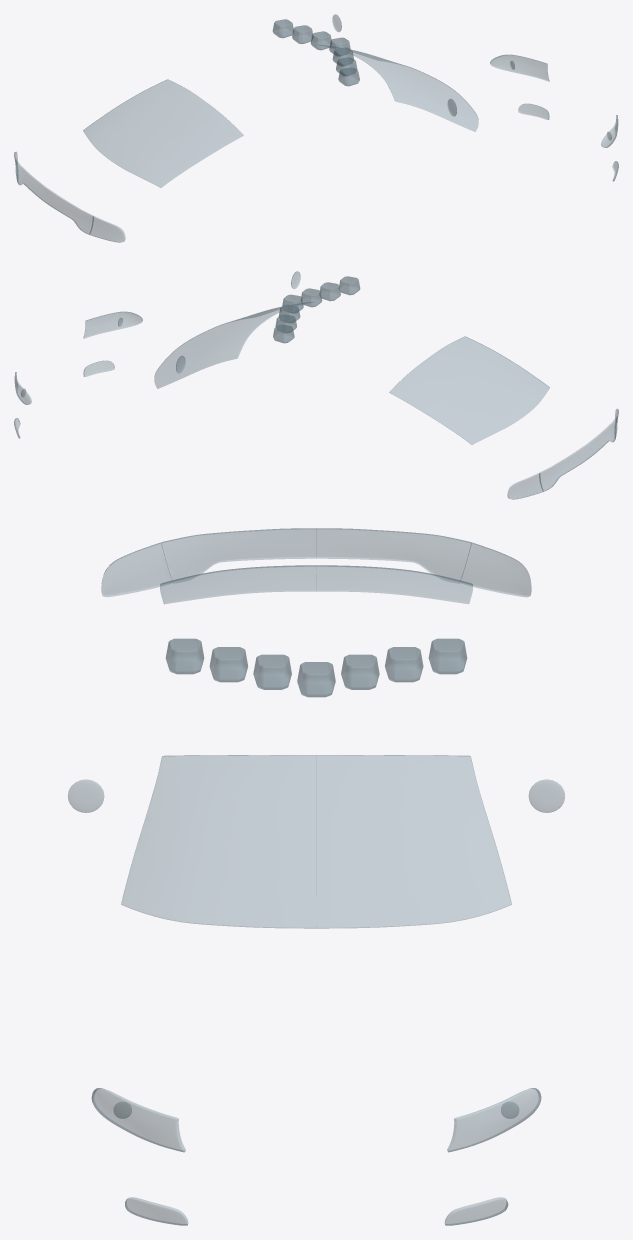
The picture shows the model from 3 angles, top to bottom: view 1: azimuth 30°, elevation 25°; view 2: azimuth 150°, elevation 25°; view 3: azimuth 270°, elevation 25°; orthographic projection. The views are drawn at different scales.
Visible parts, largest first — view 1: SM_DodgeChargerCop_Glass_Ext1; view 2: SM_DodgeChargerCop_Glass_Ext1; view 3: SM_DodgeChargerCop_Glass_Ext1.
Part boxes in pixels (x1,y1,x2,y2): SM_DodgeChargerCop_Glass_Ext1: [14, 14, 618, 242]; SM_DodgeChargerCop_Glass_Ext1: [14, 271, 618, 499]; SM_DodgeChargerCop_Glass_Ext1: [68, 528, 564, 1225].
Size of the model in its own units: 4.76 by 1.37 by 1.9.
